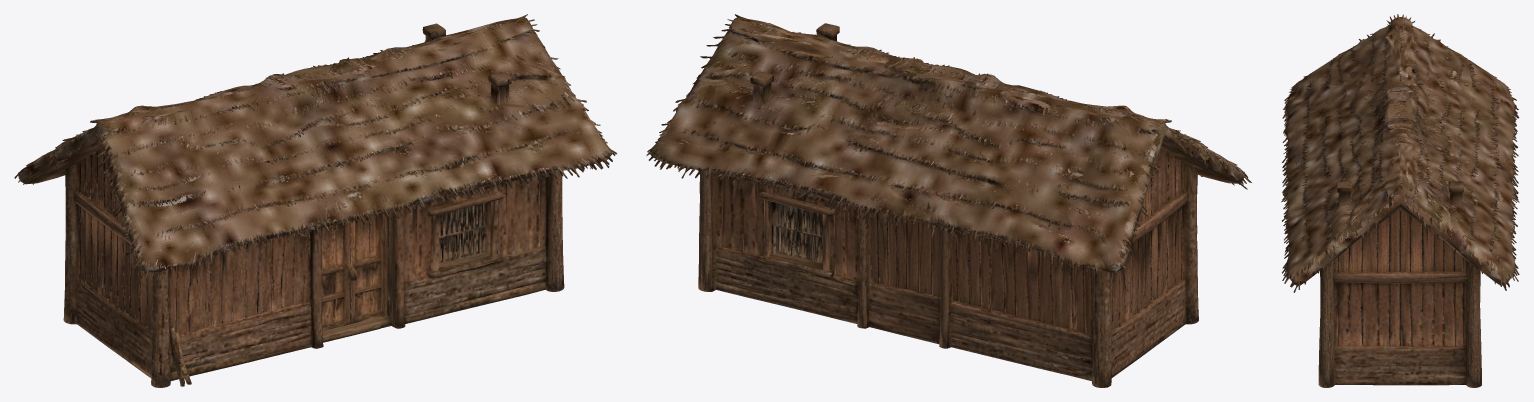
File: tripo_convert_2d1dec91-8291-4f55-9c8f-a1e0c7b02da8.fbx
The picture shows the model from 3 angles, left to right: view 1: azimuth 30°, elevation 25°; view 2: azimuth 150°, elevation 25°; view 3: azimuth 270°, elevation 25°; orthographic projection. The views are drawn at different scales.
Visible parts, largest first — view 1: tripo_part_9, tripo_part_6, tripo_part_1, tripo_part_8, tripo_part_0, tripo_part_14, tripo_part_16, tripo_part_4; view 2: tripo_part_9, tripo_part_6, tripo_part_2, tripo_part_0, tripo_part_13, tripo_part_7, tripo_part_17, tripo_part_3, tripo_part_5; view 3: tripo_part_9, tripo_part_6, tripo_part_15, tripo_part_17, tripo_part_16, tripo_part_18.
Part boxes in pixels (<box>): tripo_part_9: <box>14,14,616,280</box>; tripo_part_6: <box>63,147,546,387</box>; tripo_part_1: <box>168,232,310,335</box>; tripo_part_8: <box>321,212,389,326</box>; tripo_part_0: <box>73,178,152,330</box>; tripo_part_14: <box>426,191,506,278</box>; tripo_part_16: <box>545,171,564,291</box>; tripo_part_4: <box>303,229,323,348</box>; tripo_part_9: <box>646,14,1251,278</box>; tripo_part_6: <box>715,147,1198,387</box>; tripo_part_2: <box>951,230,1093,334</box>; tripo_part_0: <box>1110,175,1188,330</box>; tripo_part_13: <box>759,192,834,278</box>; tripo_part_7: <box>870,211,940,296</box>; tripo_part_17: <box>698,171,717,291</box>; tripo_part_3: <box>939,227,952,348</box>; tripo_part_5: <box>764,183,1021,276</box>; tripo_part_9: <box>1281,14,1519,292</box>; tripo_part_6: <box>1333,208,1466,385</box>; tripo_part_15: <box>1334,208,1466,272</box>; tripo_part_17: <box>1464,260,1481,387</box>; tripo_part_16: <box>1318,260,1334,387</box>; tripo_part_18: <box>1333,271,1467,283</box>.
Bounding box in the file's own units: 99.94 × 50.01 × 46.4.
Materials: 19 (19 with a texture image).
